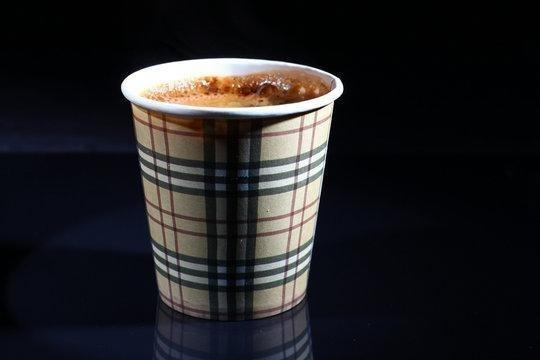cup-disposable: (118, 52, 345, 323)
